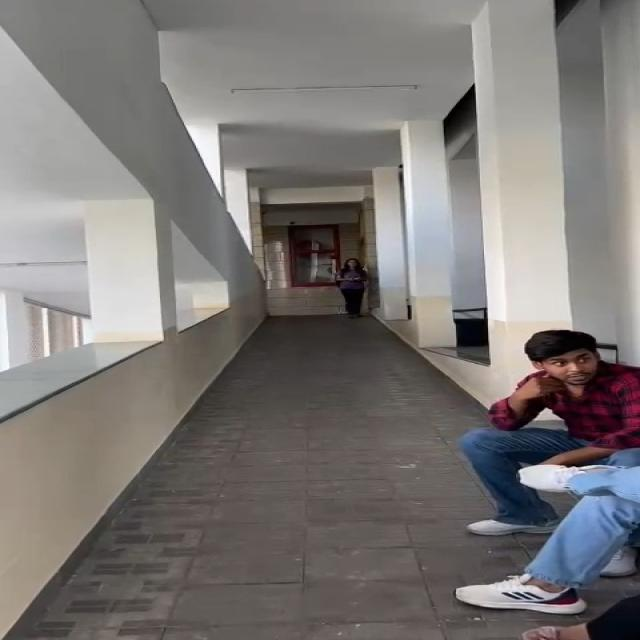floor: (172, 328, 466, 640)
moving_object: (467, 296, 640, 640), (332, 256, 386, 322)
wall: (0, 0, 281, 308)
